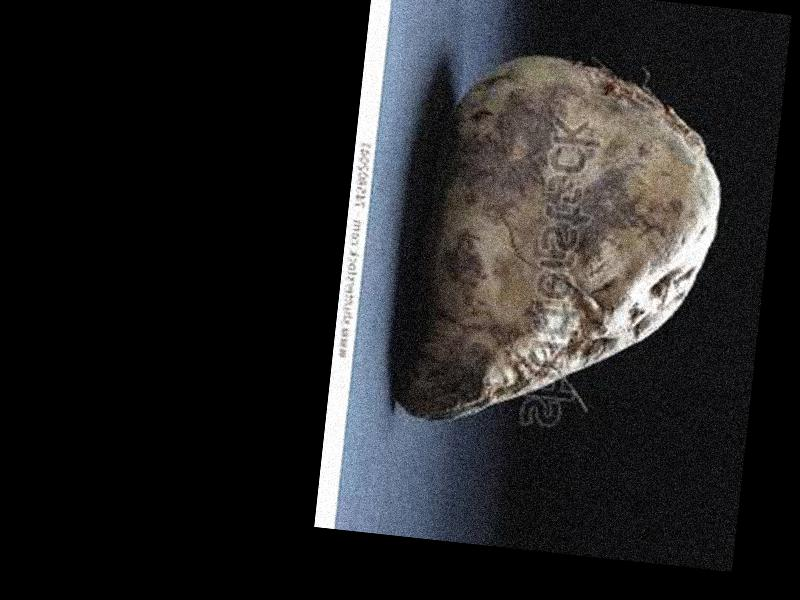Beet: (398, 39, 731, 443)
